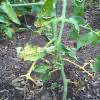Tomato Septoria leaf spot: (10, 44, 60, 62), (33, 16, 58, 37), (1, 3, 21, 25), (35, 1, 62, 17), (75, 32, 97, 51), (58, 42, 77, 61), (39, 70, 56, 84), (68, 25, 82, 41), (29, 64, 52, 73)
